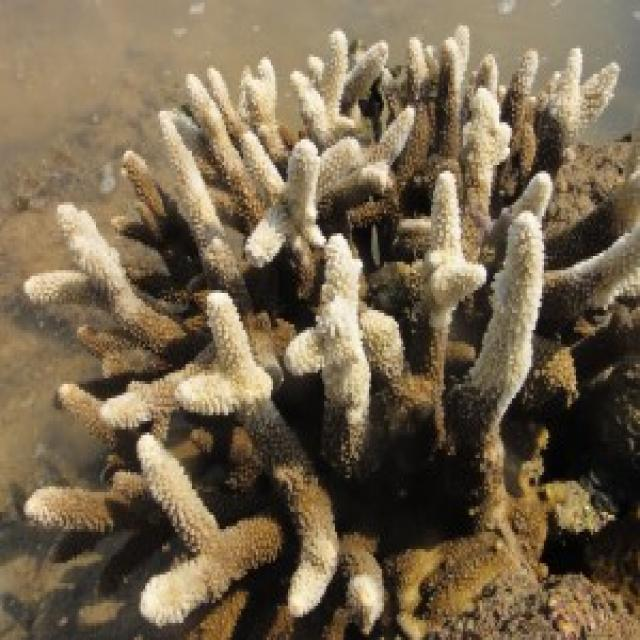Bleached: (18, 25, 640, 432), (20, 442, 333, 635)
Healthy: (393, 436, 565, 640), (231, 432, 333, 527), (420, 101, 455, 170)
